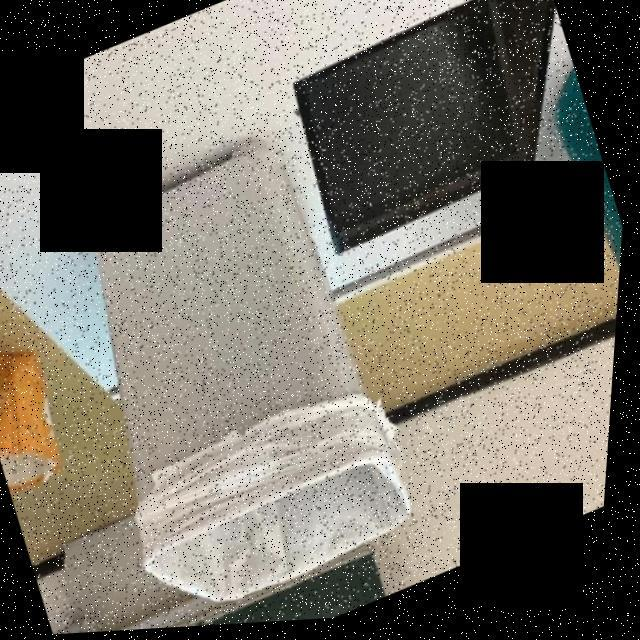bin: (0, 35, 507, 640), (490, 0, 639, 485)
